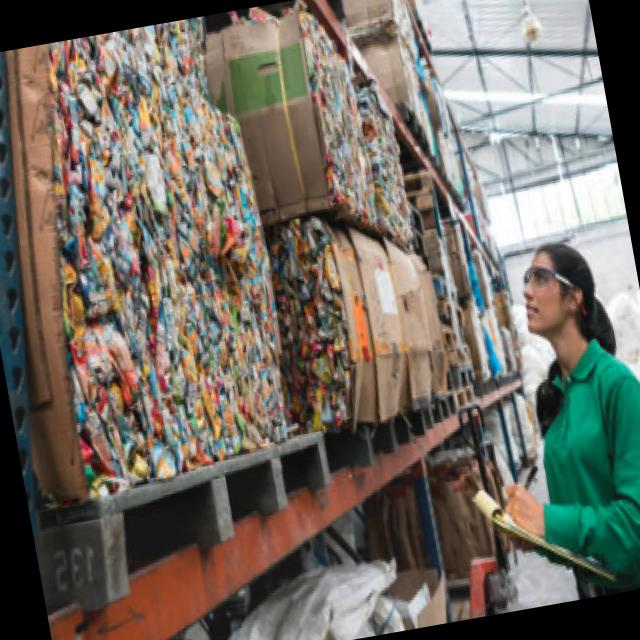Kardus: (0, 0, 457, 491)
